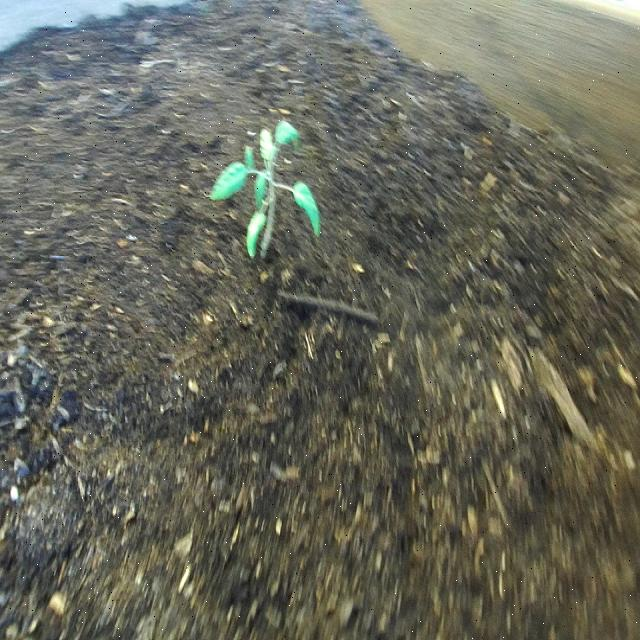Healthy: (203, 102, 331, 280)
